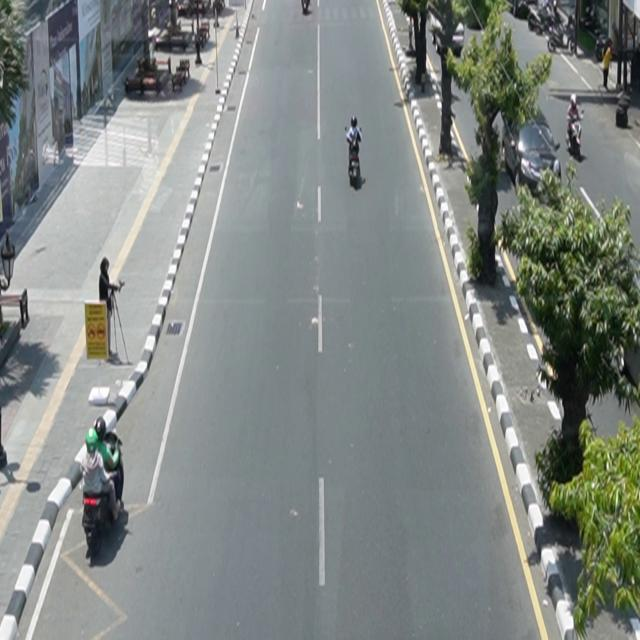car: (503, 106, 563, 199)
